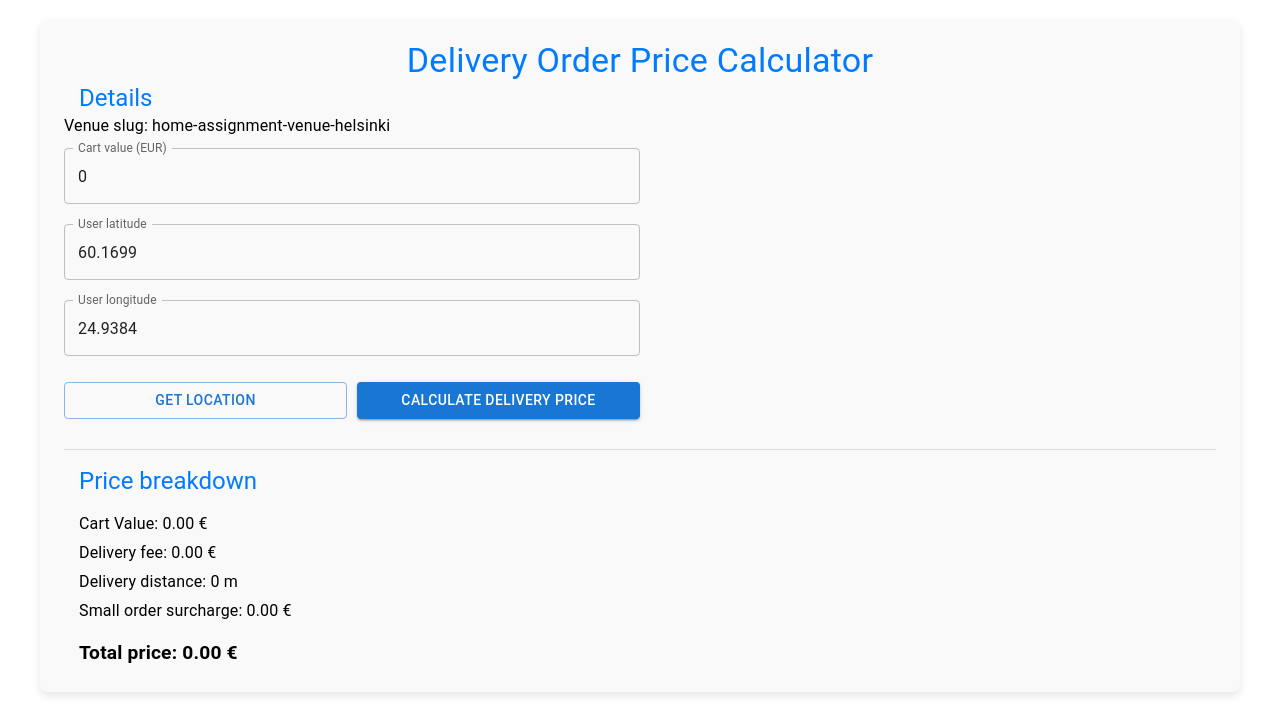
Test case: DeliveryOrderPriceCalculator › displays 'Delivery is not available' message if delivery is unavailable
Step 1. Click the button "Calculate delivery price" → (498, 400), box 357,382 -> 640,418
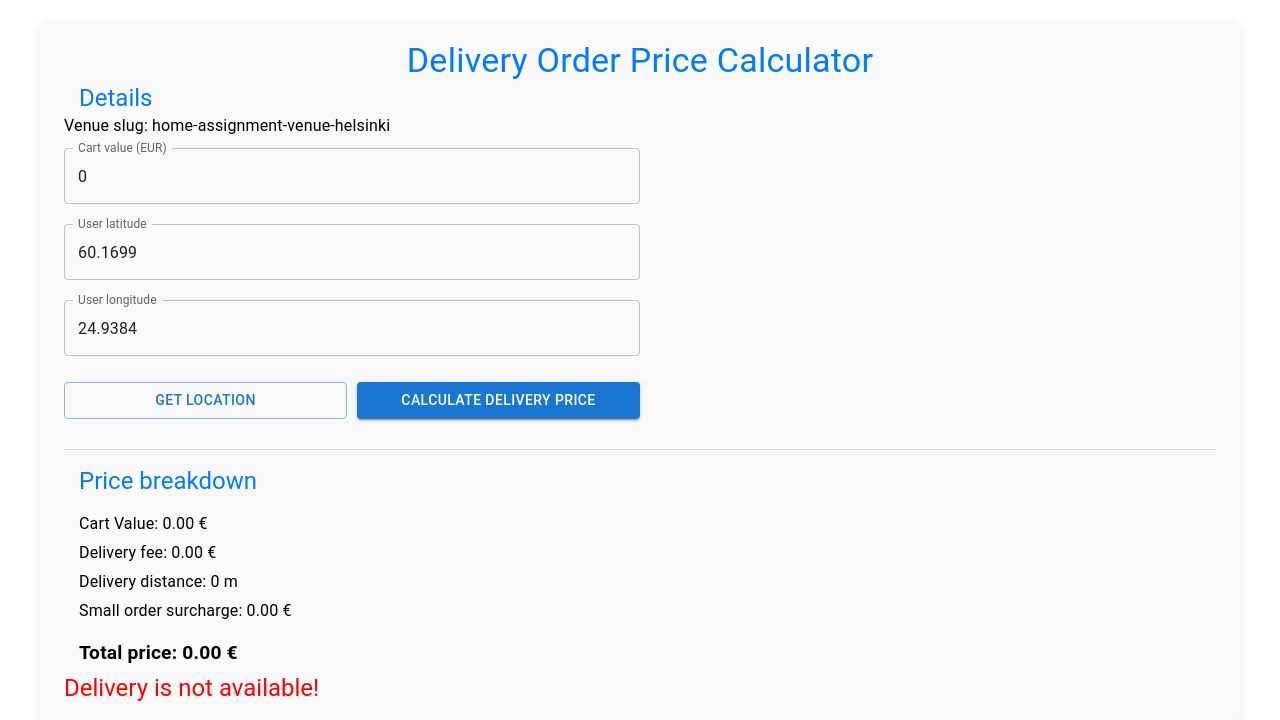
Expected: the heading "Delivery is not available!" is shown, 64,674 -> 319,702
